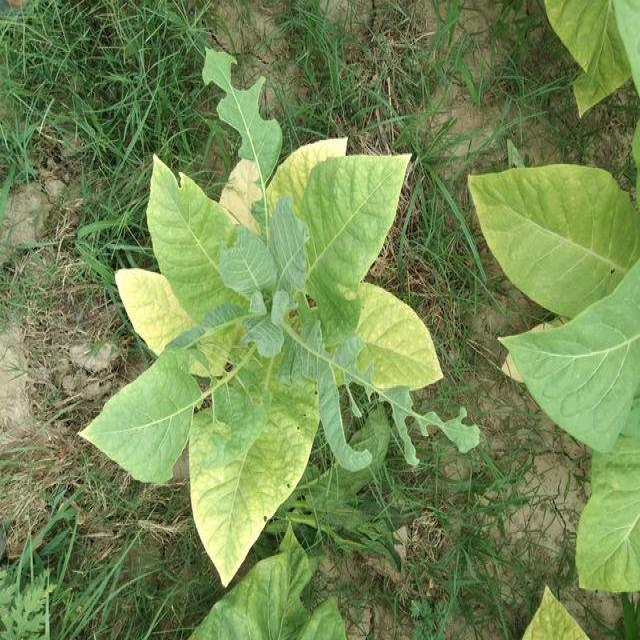crop: (83, 45, 480, 568)
